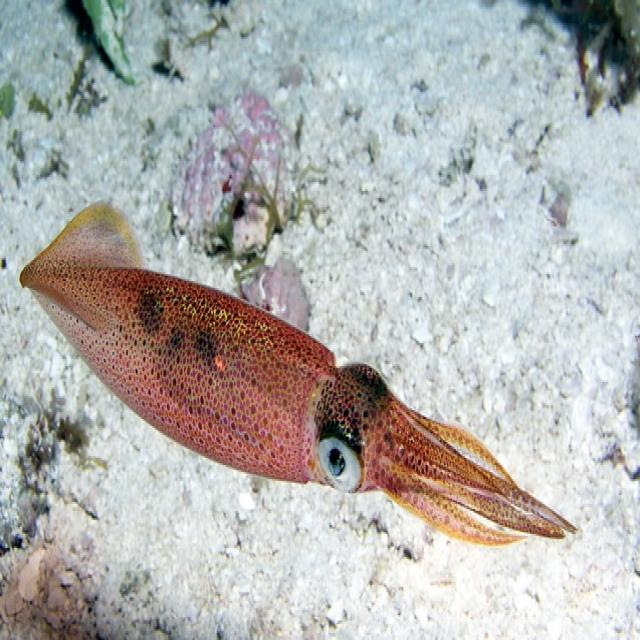SQUID: (13, 186, 578, 566)
